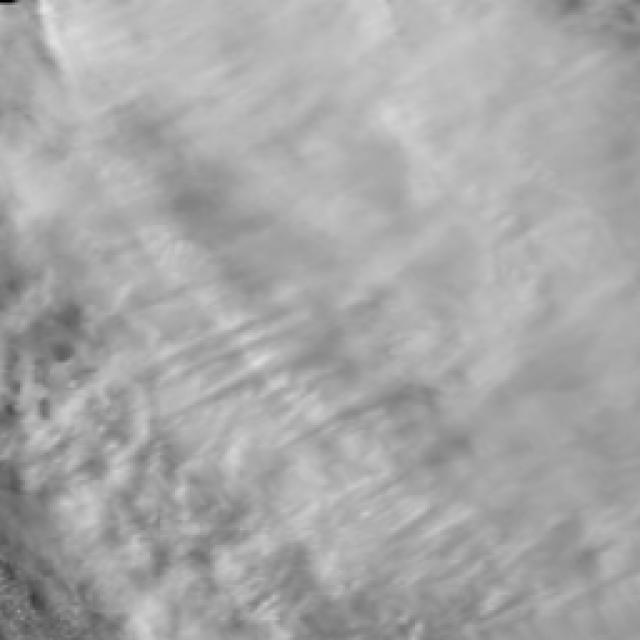CB: (239, 48, 640, 319)
